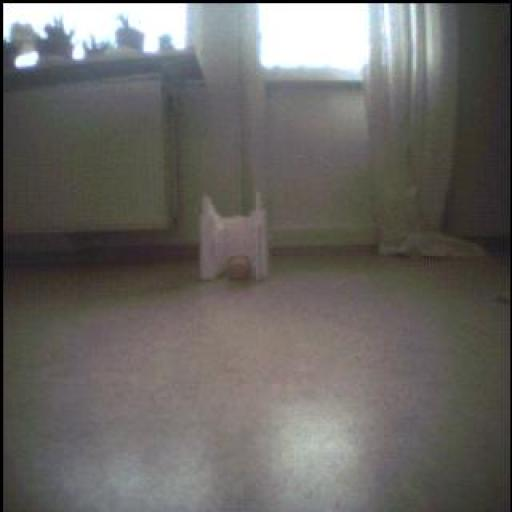Basket: (226, 256, 253, 283)
